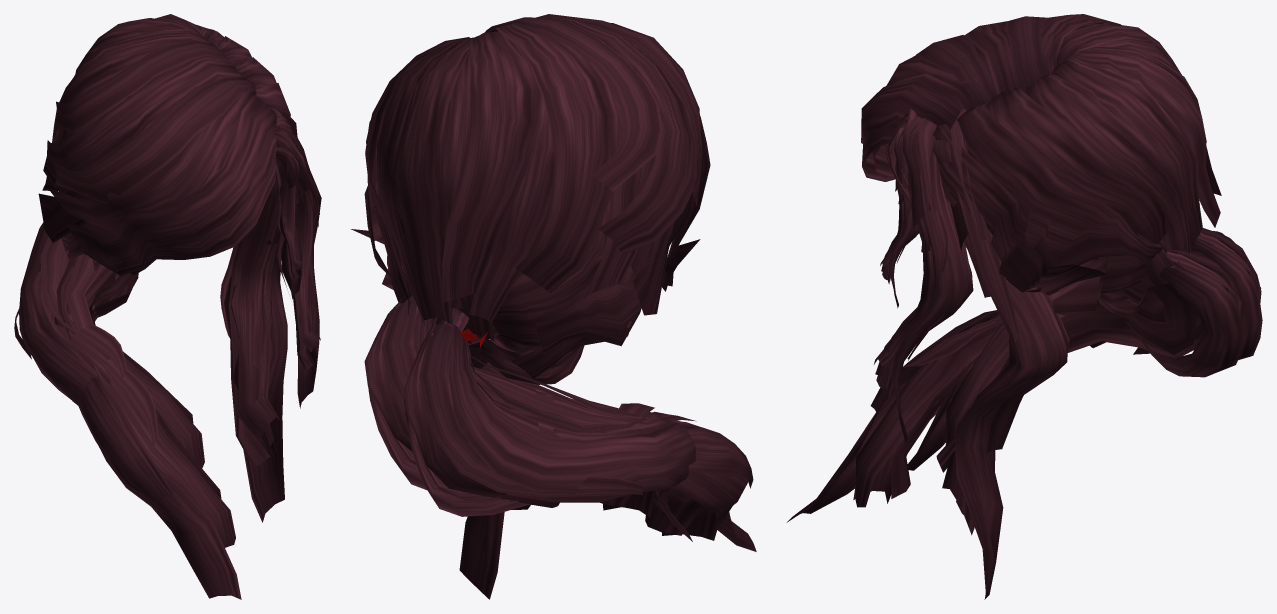
File: CABELO MODI.fbx
3 renders of one model, left to right at view 1: azimuth 30°, elevation 25°; view 2: azimuth 150°, elevation 25°; view 3: azimuth 270°, elevation 25°, orthographic. The views are drawn at different scales.
Visible parts, largest first — view 1: Package.001, Package.003, Package.005, Package.002, Package.004, Package.006; view 2: Package.001, Package.002, Package.003, Package.005; view 3: Package.001, Package.003, Package.005, Package.004, Package.002, Package.006.
Part boxes in pixels (x1=…): Package.001: x1=38, y1=14, x2=293, y2=275; Package.003: x1=54, y1=254, x2=241, y2=599; Package.005: x1=220, y1=108, x2=297, y2=522; Package.002: x1=14, y1=222, x2=204, y2=468; Package.004: x1=274, y1=126, x2=321, y2=408; Package.006: x1=276, y1=146, x2=302, y2=299; Package.001: x1=351, y1=14, x2=710, y2=384; Package.002: x1=403, y1=325, x2=695, y2=541; Package.003: x1=364, y1=290, x2=756, y2=551; Package.005: x1=459, y1=362, x2=530, y2=599; Package.001: x1=861, y1=14, x2=1221, y2=317; Package.003: x1=786, y1=250, x2=1244, y2=522; Package.005: x1=912, y1=109, x2=1069, y2=599; Package.004: x1=874, y1=108, x2=973, y2=443; Package.002: x1=907, y1=229, x2=1262, y2=470; Package.006: x1=880, y1=127, x2=918, y2=308.
Size of the model in its own units: 21.99 by 42.2 by 33.71.
